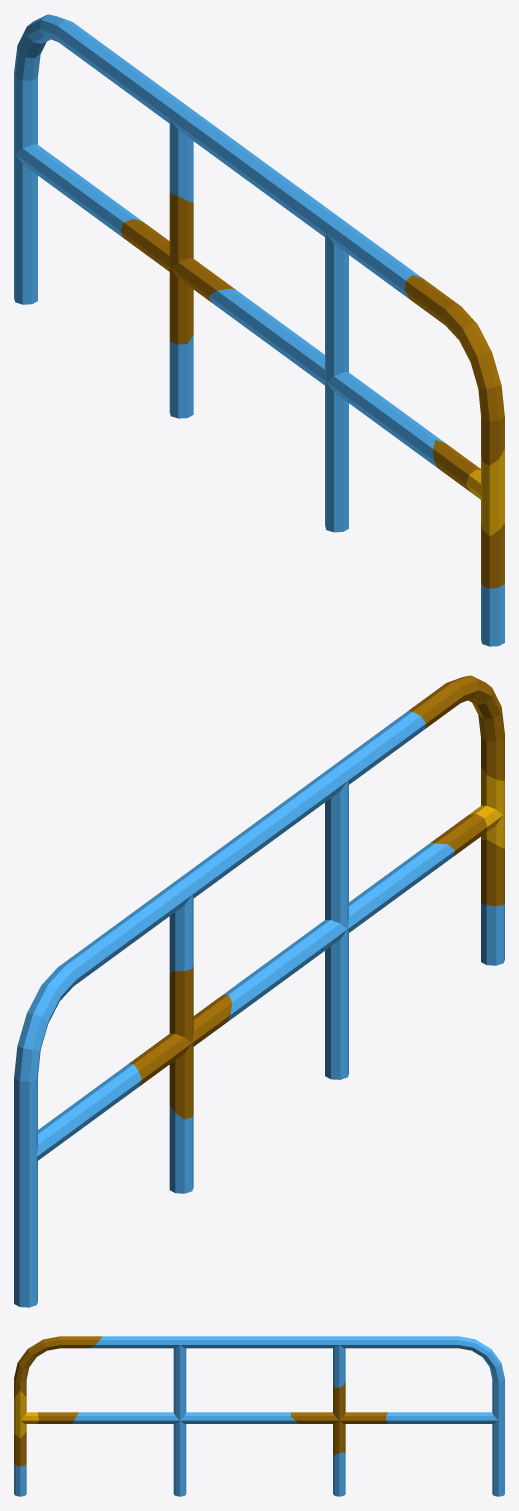
The model's file is Pipe_Barier_2_13_3.fbx.
3 views of the same model, one above another, from view 1: azimuth 30°, elevation 25°; view 2: azimuth 150°, elevation 25°; view 3: azimuth 270°, elevation 25° (orthographic). The views are drawn at different scales.
Visible parts, largest first — view 1: Fence_3_3; view 2: Fence_3_3; view 3: Fence_3_3.
Boxes of the visible parts, x1,y1,x2,y2 form: Fence_3_3: [14, 14, 504, 646]; Fence_3_3: [14, 675, 504, 1307]; Fence_3_3: [14, 1336, 504, 1496].
Bounding box in the file's own units: 8 × 109 × 309.
